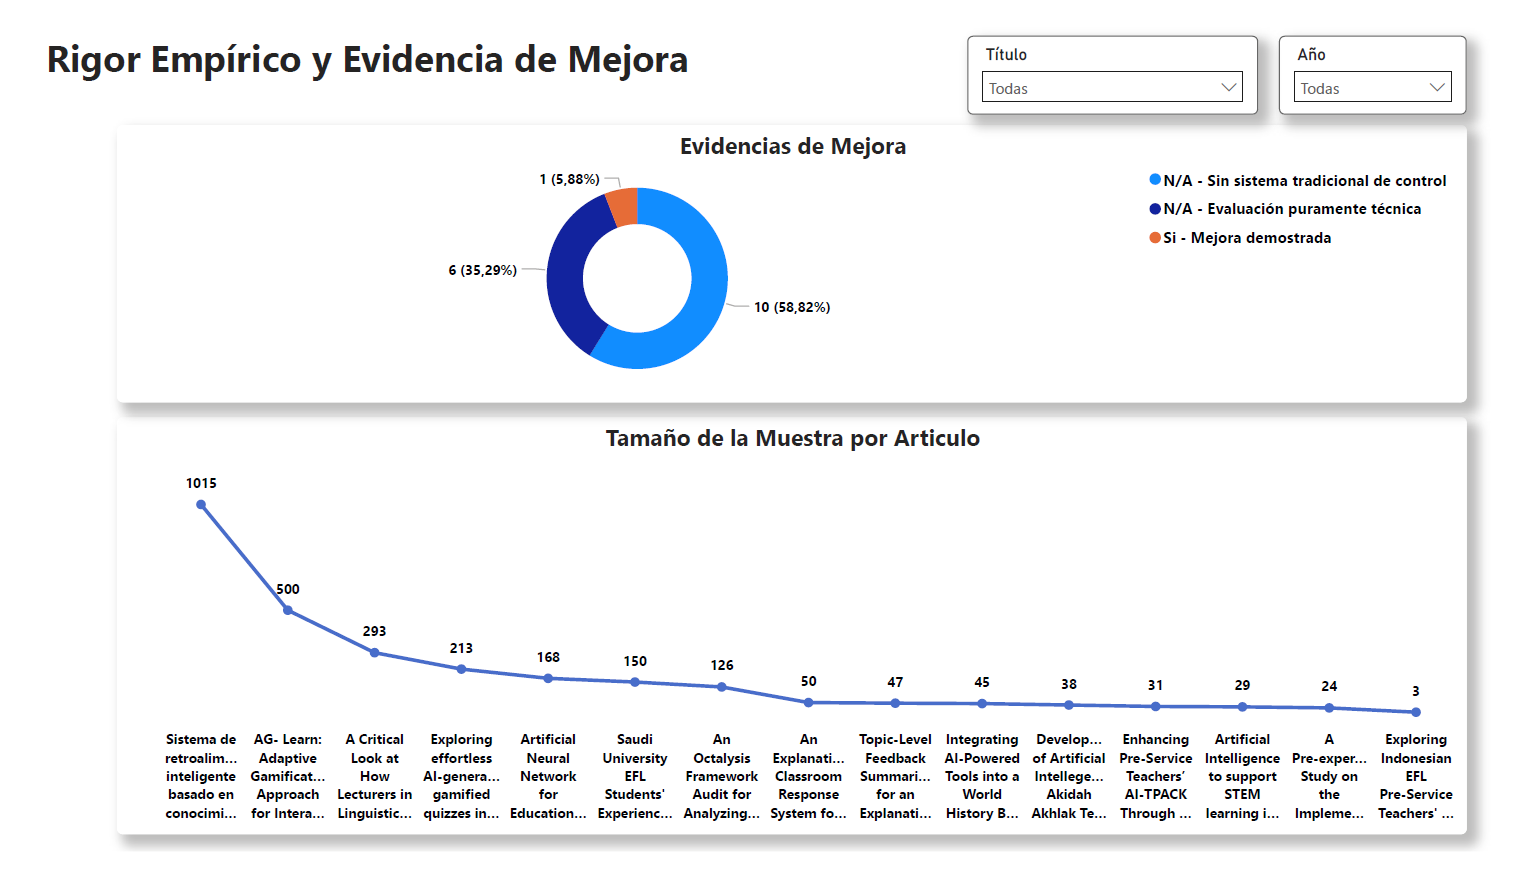

The page's visual inventory and layout, read from the dashboard file:
{"tool":"powerbi","page":{"name":"RQ6","canvas":[1280,720],"ordinal":6},"visuals":[{"type":"textbox","box":[0,0,594.9,67.1],"z":0},{"type":"lineChart","title":"Tamaño de la Muestra por Articulo","fields":{"Category":["Hoja1.Título"],"Y":["Sum(Hoja1.Tamaño de la Muestra)"]},"box":[79,341,1178,364],"z":1000},{"type":"donutChart","title":"Evidencias de Mejora ","fields":{"Category":["Hoja1.Evidencia de mejora"],"Y":["CountNonNull(Hoja1.Evidencia de mejora)"]},"box":[79,86,1178,242],"z":2000},{"type":"slicer","fields":{"Values":["Hoja1.Año"]},"box":[1093,8,164,69],"z":3000},{"type":"slicer","fields":{"Values":["Hoja1.Título"]},"box":[820.7,8.2,253.9,68.9],"z":4000}]}

Visuals, with their boxes in screenshot pixels (x1, y1, x2, y2), scaled from the page's 1280x720 canvas onto the 1518x878 screenshot:
textbox: bbox=[0, 0, 706, 82]
"Tamaño de la Muestra por Articulo" lineChart: bbox=[94, 416, 1491, 860]
"Evidencias de Mejora " donutChart: bbox=[94, 105, 1491, 400]
slicer - Hoja1.Año: bbox=[1296, 10, 1491, 94]
slicer - Hoja1.Título: bbox=[973, 10, 1274, 94]
